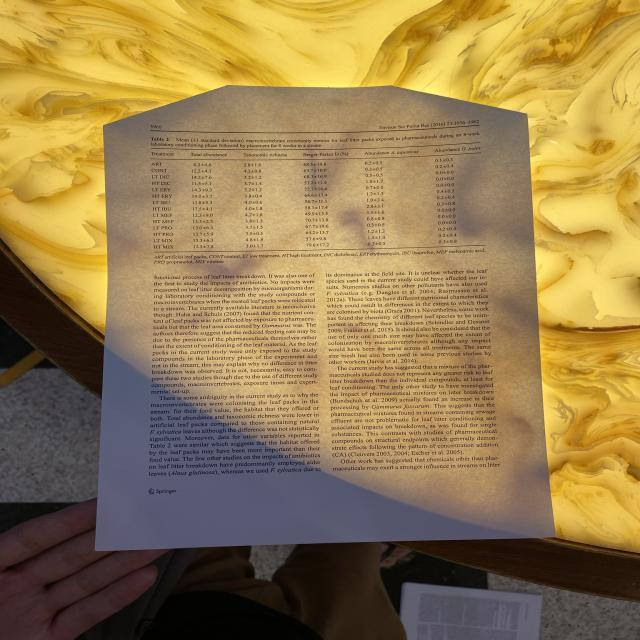document: (97, 86, 553, 550)
